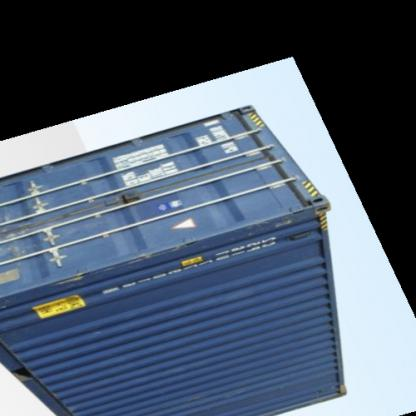Damage: (62, 242, 183, 290), (240, 208, 301, 240), (2, 216, 38, 270)
